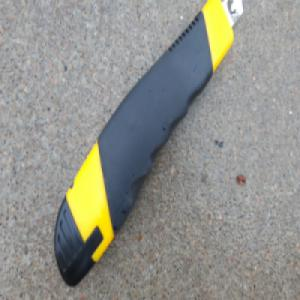Cutter: (53, 0, 247, 288)
